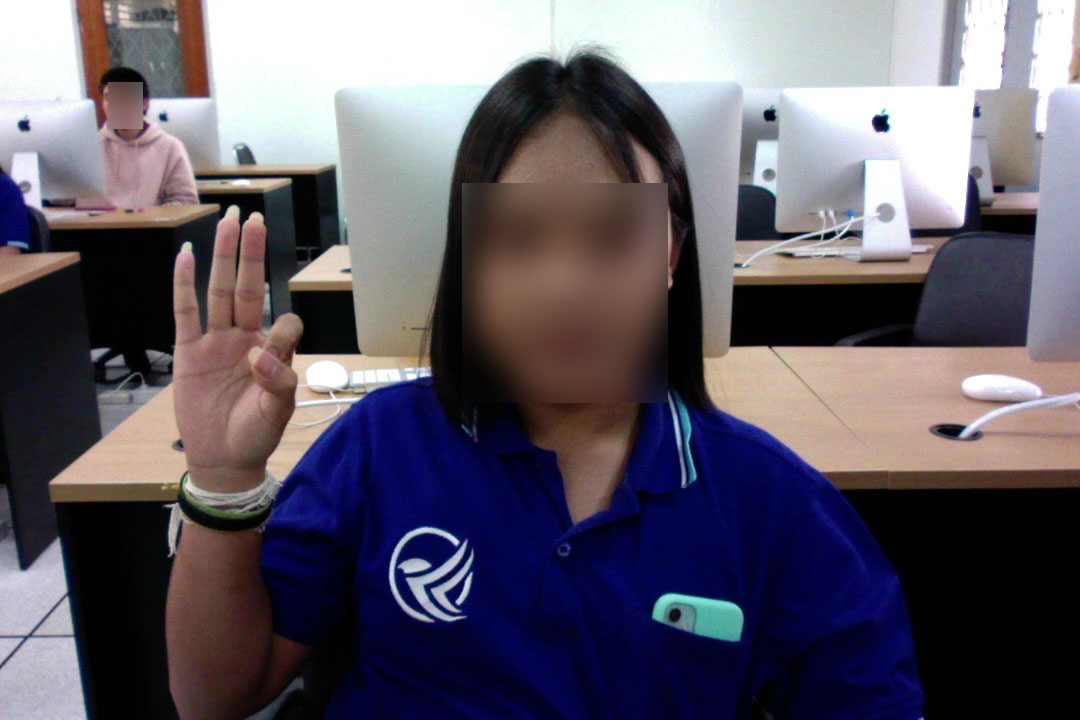for: (161, 198, 309, 483)
